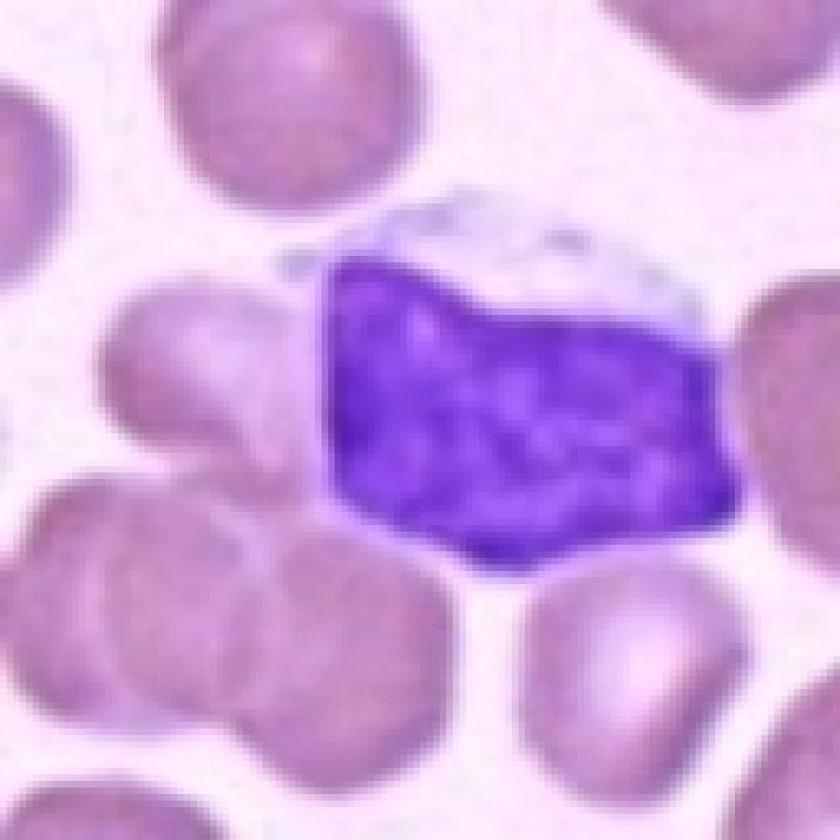lymphocyte: (272, 182, 759, 604)
